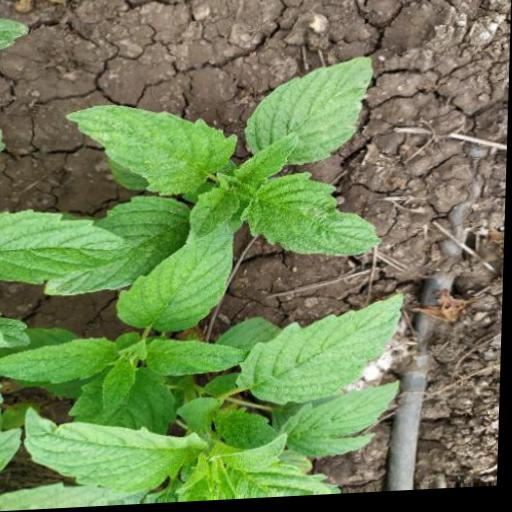crop: (65, 78, 402, 338), (0, 299, 429, 498)
